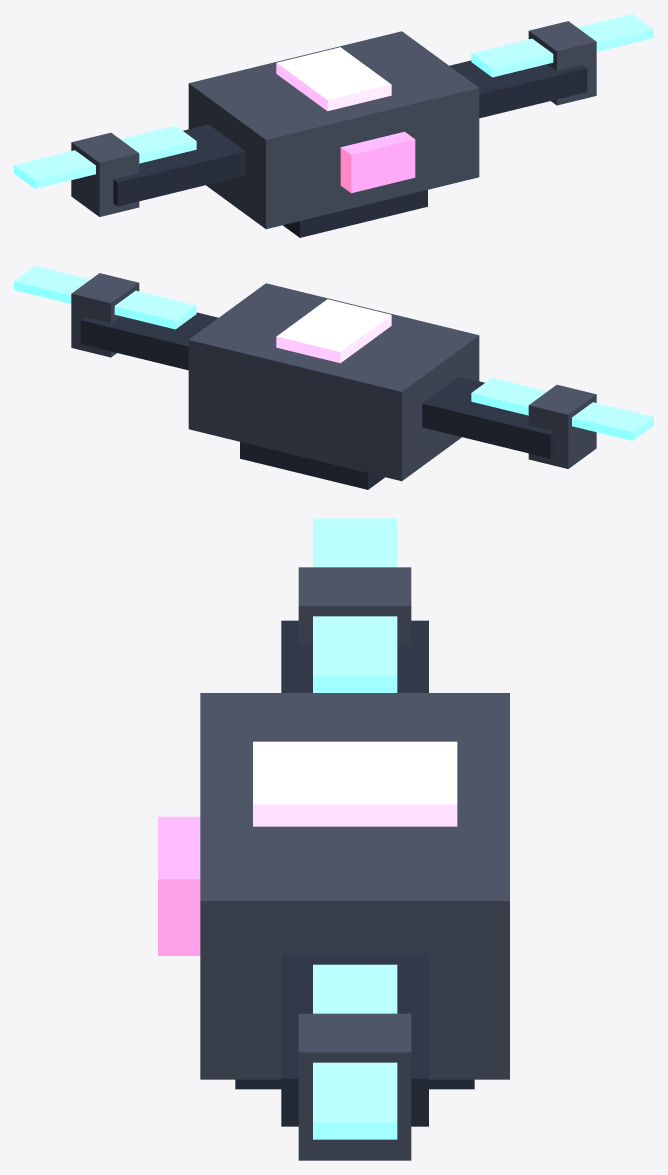
The model's file is drone.gltf.
The picture shows the model from 3 angles, top to bottom: view 1: azimuth 30°, elevation 25°; view 2: azimuth 150°, elevation 25°; view 3: azimuth 270°, elevation 25°; orthographic projection. The views are drawn at different scales.
Visible parts, largest first — view 1: Hull, Wing-1, Status, Wing1, Rotor_blade1, Rotor_blade-1, Motor-1, Lens, Motor1, Underbody; view 2: Hull, Wing-1, Status, Wing1, Rotor_blade1, Rotor_blade-1, Motor-1, Motor1, Underbody; view 3: Hull, Status, Rotor_blade1, Rotor_blade-1, Motor1, Wing1, Motor-1, Lens, Wing-1, Underbody.
Boxes of the visible parts, x1,y1,x2,y2 form: Hull: [188, 31, 479, 229]; Wing-1: [113, 124, 245, 206]; Status: [276, 47, 391, 111]; Wing1: [449, 60, 587, 118]; Rotor_blade1: [471, 14, 653, 77]; Rotor_blade-1: [14, 125, 196, 188]; Motor-1: [71, 132, 139, 216]; Lens: [340, 131, 415, 193]; Motor1: [528, 21, 596, 105]; Underbody: [283, 190, 427, 237]; Hull: [188, 283, 479, 481]; Wing-1: [422, 376, 554, 458]; Status: [276, 299, 391, 363]; Wing1: [80, 312, 218, 370]; Rotor_blade1: [14, 266, 196, 329]; Rotor_blade-1: [471, 377, 653, 440]; Motor-1: [528, 384, 596, 468]; Motor1: [71, 273, 139, 357]; Underbody: [240, 442, 384, 489]; Hull: [200, 693, 509, 1079]; Status: [253, 741, 457, 826]; Rotor_blade1: [313, 964, 397, 1139]; Rotor_blade-1: [313, 518, 397, 692]; Motor1: [298, 1013, 411, 1160]; Wing1: [281, 953, 428, 1126]; Motor-1: [298, 567, 411, 645]; Lens: [158, 816, 200, 955]; Wing-1: [281, 620, 428, 692]; Underbody: [235, 1079, 474, 1089].
Bounding box in the file's own units: 2.03 × 0.3975 × 0.5.
